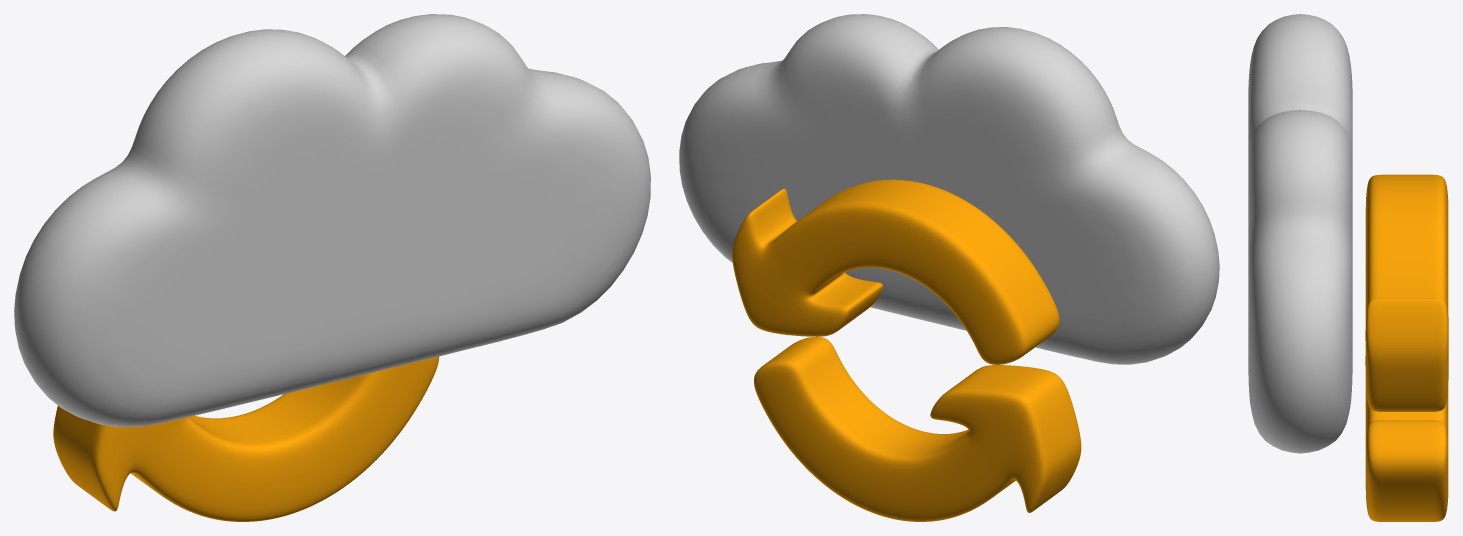
File: syncing-animated-3d-icon-1456736400980.glb
3 views of the same model, side by side, from view 1: azimuth 30°, elevation 25°; view 2: azimuth 150°, elevation 25°; view 3: azimuth 270°, elevation 25° (orthographic). The views are drawn at different scales.
Visible parts, largest first — view 1: Cloud, Cycle; view 2: Cloud, Cycle; view 3: Cloud, Cycle.
Part boxes in pixels (left/top/right/bottom): Cloud: left=14, top=14, right=650, bottom=427; Cycle: left=53, top=356, right=439, bottom=521; Cloud: left=679, top=14, right=1219, bottom=364; Cycle: left=732, top=179, right=1081, bottom=521; Cloud: left=1248, top=14, right=1352, bottom=453; Cycle: left=1365, top=174, right=1448, bottom=521.
Size of the model in its own units: 2.41 by 1.95 by 0.7788.
